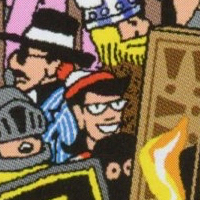wenda: (74, 68, 128, 139)
